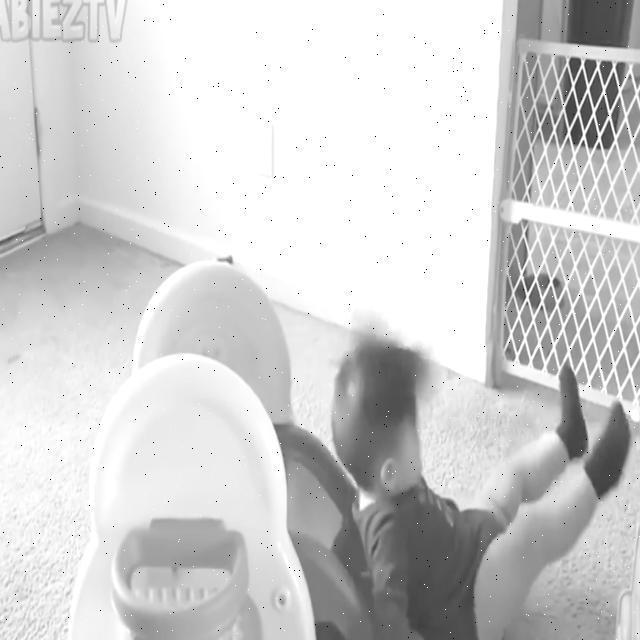child: (329, 340, 629, 640)
